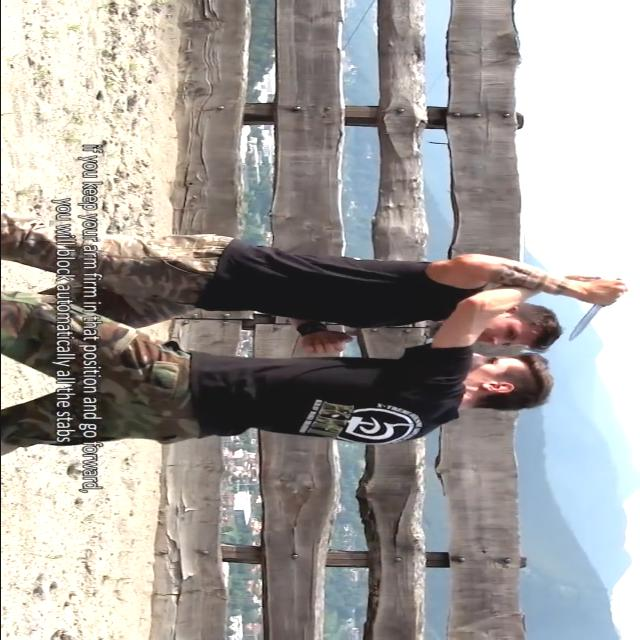knife: (562, 276, 630, 344)
